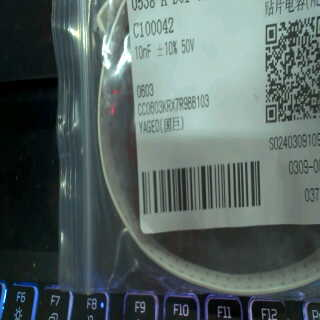10nF: (132, 42, 155, 63)
